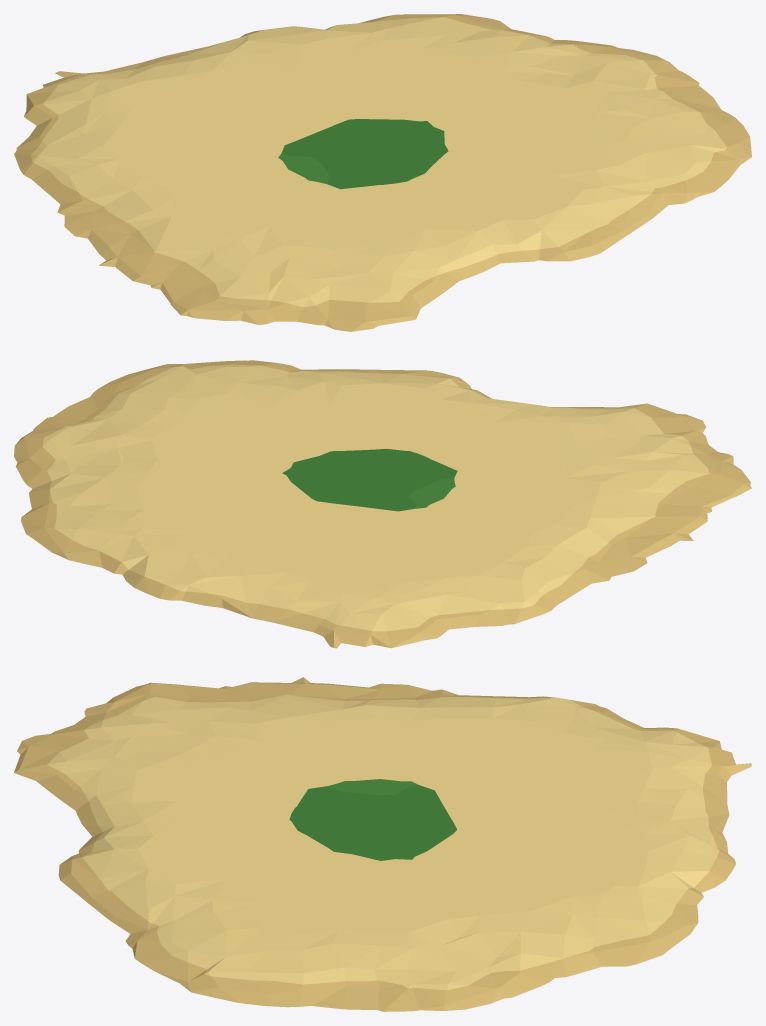
The model's file is Isl-islet2-Ground.fbx.
3 views of the same model, one above another, from view 1: azimuth 30°, elevation 25°; view 2: azimuth 150°, elevation 25°; view 3: azimuth 270°, elevation 25° (orthographic). The views are drawn at different scales.
Visible parts, largest first — view 1: Isl-islet2-Ground-c11, Isl-islet2-Ground-c21, Isl-islet2-Ground-c12, Isl-islet2-Ground-c22; view 2: Isl-islet2-Ground-c12, Isl-islet2-Ground-c22, Isl-islet2-Ground-c11, Isl-islet2-Ground-c21; view 3: Isl-islet2-Ground-c22, Isl-islet2-Ground-c21, Isl-islet2-Ground-c11, Isl-islet2-Ground-c12.
Part boxes in pixels (x1,y1,x2,y2): Isl-islet2-Ground-c11: [88, 157, 500, 331]; Isl-islet2-Ground-c21: [370, 85, 751, 263]; Isl-islet2-Ground-c12: [14, 46, 369, 238]; Isl-islet2-Ground-c22: [209, 14, 699, 156]; Isl-islet2-Ground-c12: [221, 476, 647, 648]; Isl-islet2-Ground-c22: [14, 416, 380, 608]; Isl-islet2-Ground-c11: [381, 398, 751, 557]; Isl-islet2-Ground-c21: [53, 360, 491, 475]; Isl-islet2-Ground-c22: [363, 813, 735, 1011]; Isl-islet2-Ground-c21: [58, 813, 381, 1009]; Isl-islet2-Ground-c11: [14, 677, 381, 836]; Isl-islet2-Ground-c12: [362, 683, 751, 832].
Size of the model in its own units: 20.62 by 0.47 by 19.21.
